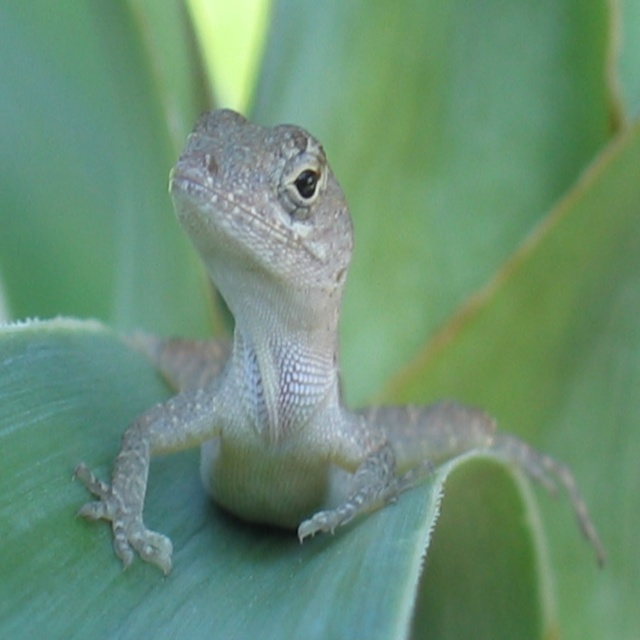Lizard: (56, 91, 614, 628)
